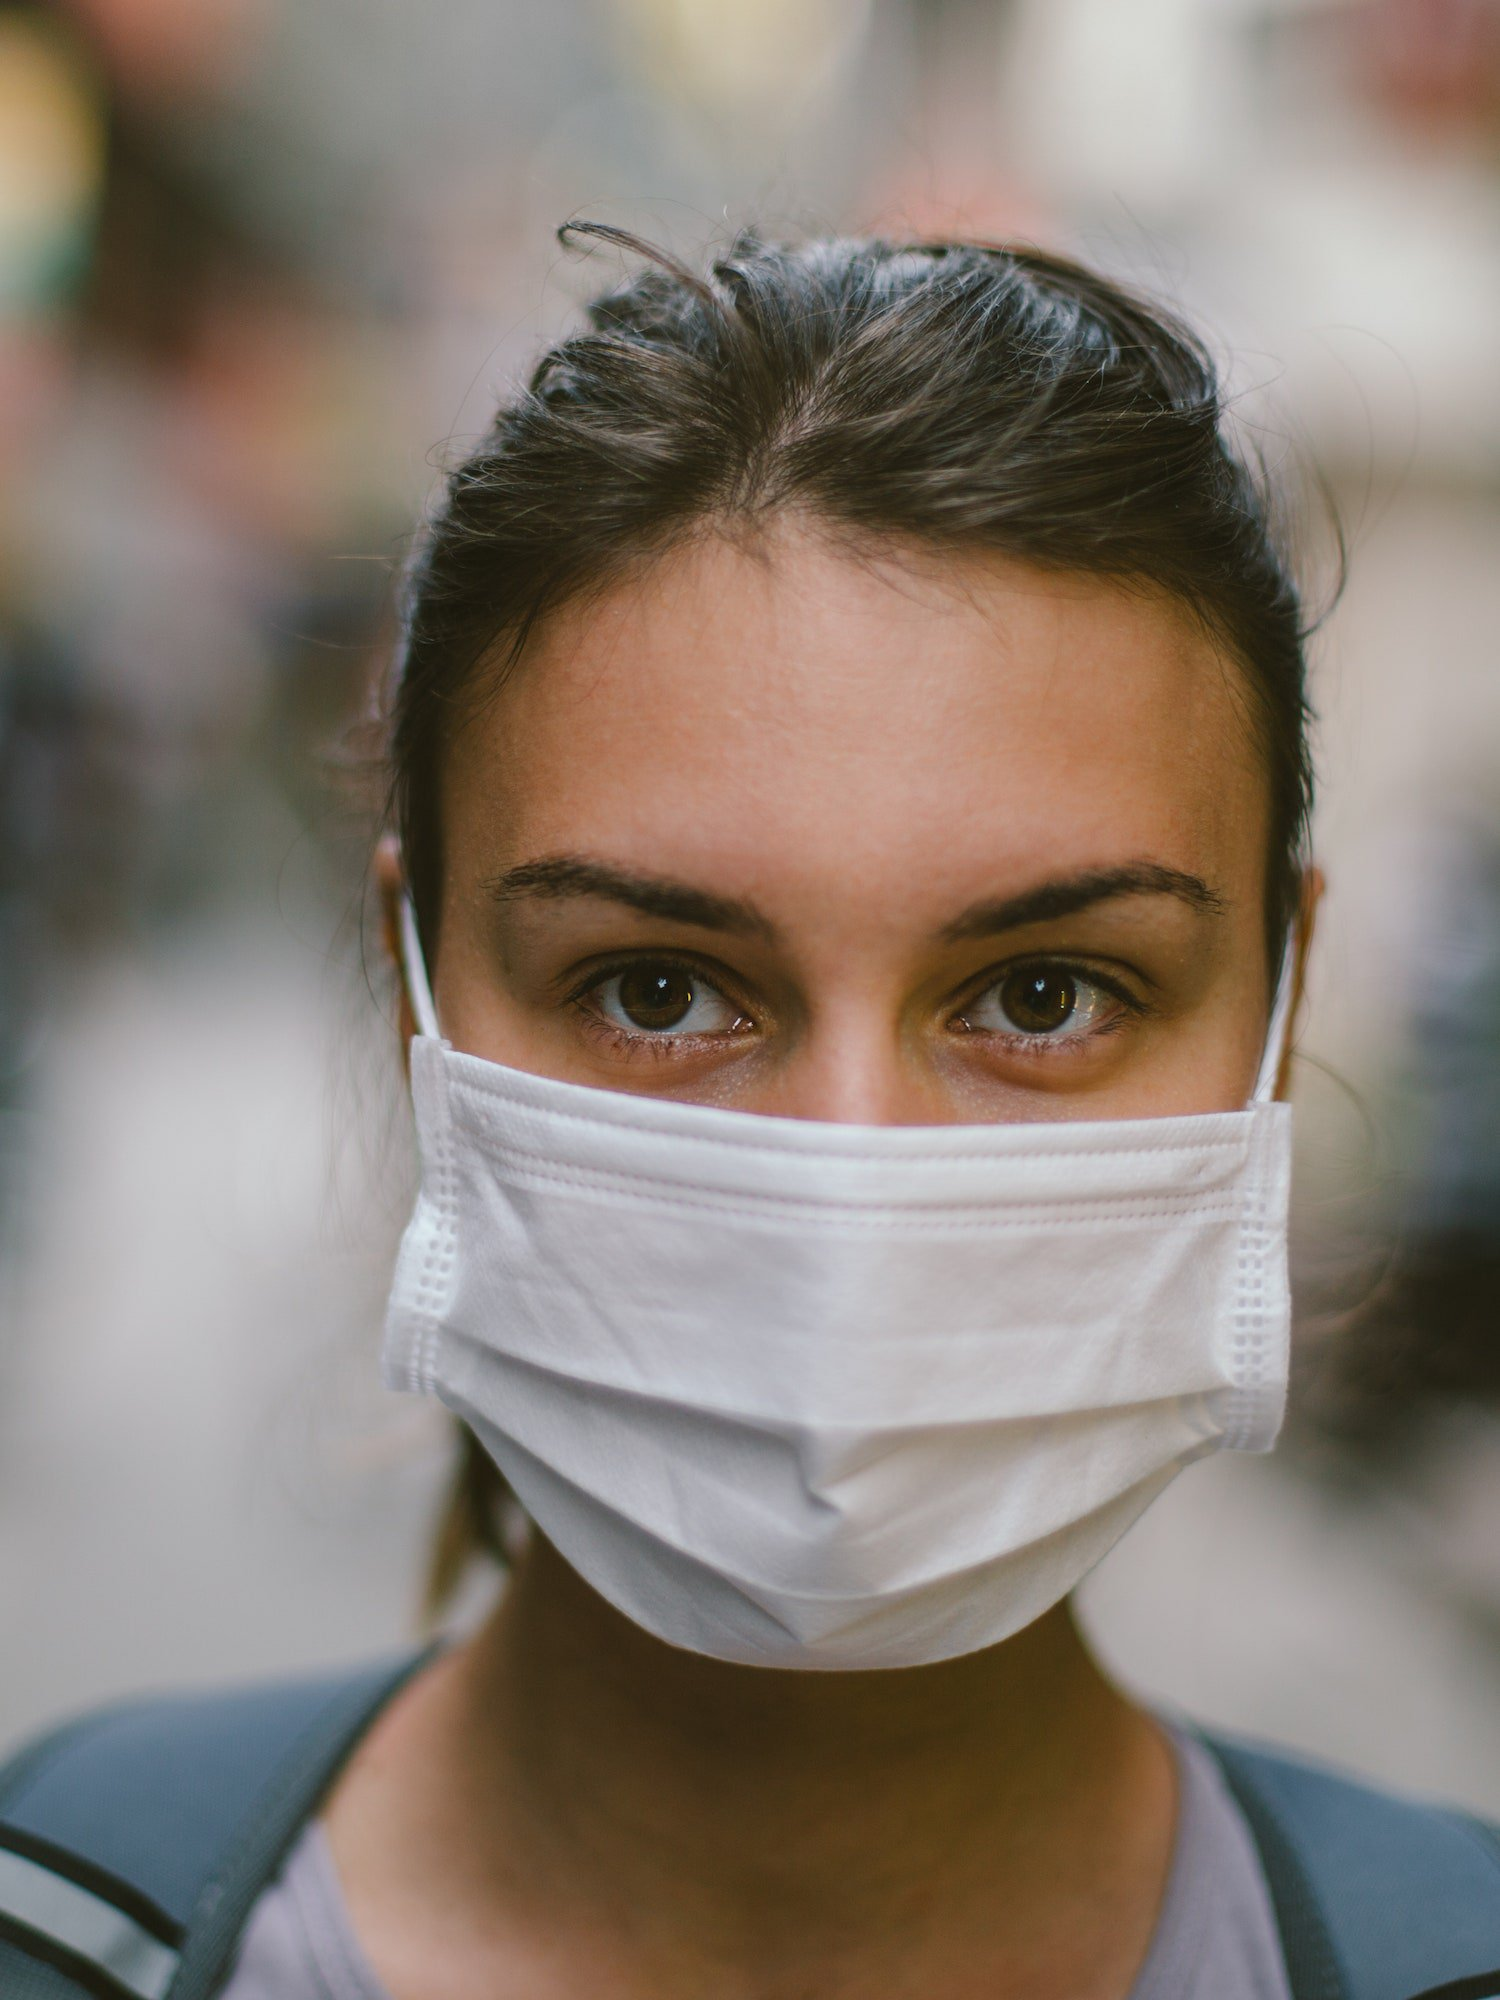mask: (290, 217, 1369, 1693)
